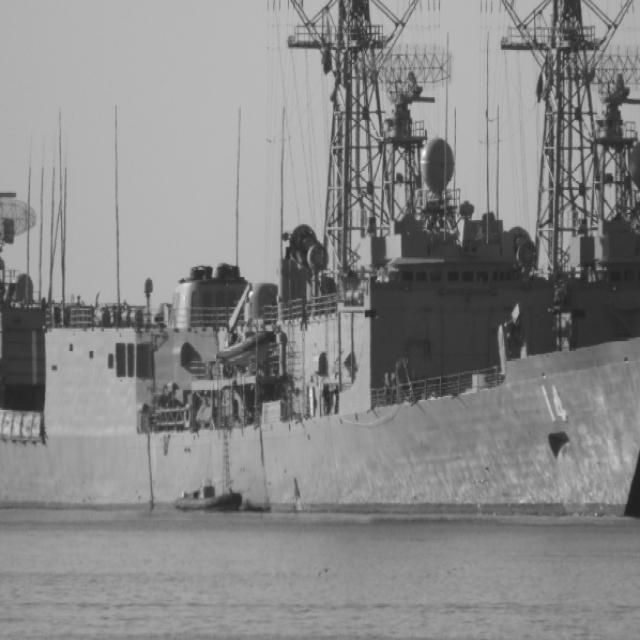Fragata: (1, 1, 640, 534)
